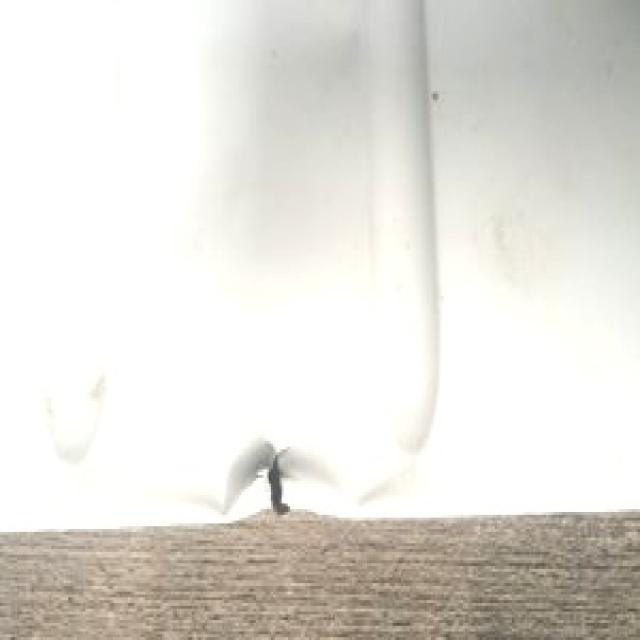crack: (248, 445, 304, 528)
